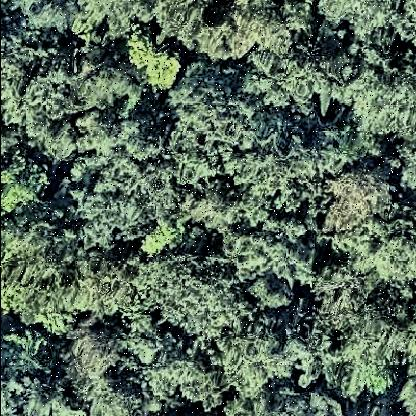tree-top: (63, 119, 187, 227), (1, 226, 123, 329), (308, 275, 414, 388), (169, 71, 261, 187), (152, 1, 301, 61), (154, 256, 246, 342), (347, 39, 416, 139), (242, 38, 338, 107), (323, 162, 393, 235), (218, 324, 288, 393), (351, 220, 416, 289), (127, 22, 187, 96), (63, 331, 128, 397), (2, 152, 51, 218), (141, 216, 185, 260), (253, 275, 297, 315)
